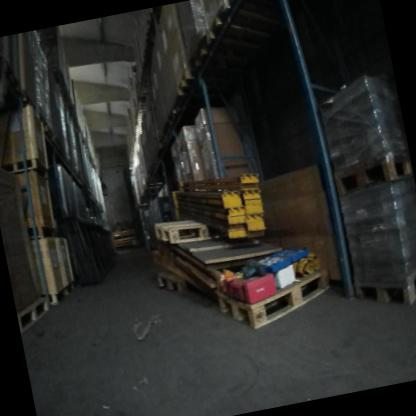pallet: (212, 253, 338, 336), (202, 0, 279, 62), (329, 143, 413, 199), (347, 252, 416, 317), (153, 210, 223, 249), (183, 28, 219, 73), (14, 294, 53, 334), (153, 265, 189, 298), (172, 67, 196, 100)
